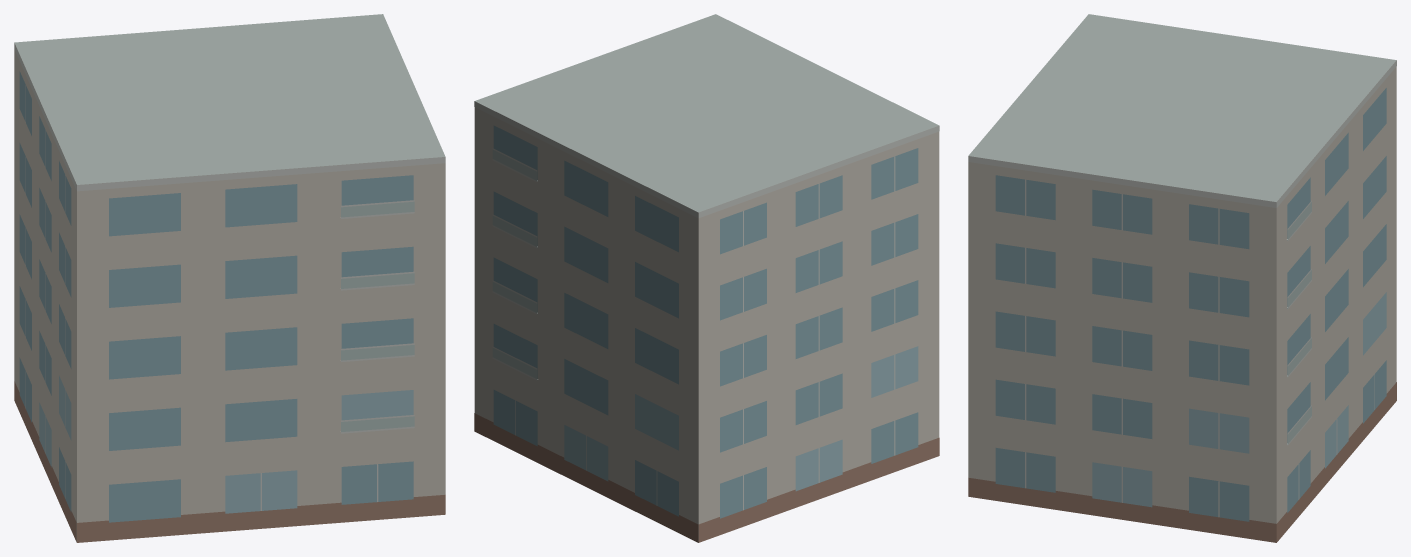
The model's file is survey-upis-32886792.glb.
3 views of the same model, side by side, from view 1: azimuth 30°, elevation 25°; view 2: azimuth 150°, elevation 25°; view 3: azimuth 270°, elevation 25° (orthographic). The views are drawn at different scales.
Visible parts, largest first — view 1: survey-upis-32886792.tmp; view 2: survey-upis-32886792.tmp; view 3: survey-upis-32886792.tmp.
Part boxes in pixels (left/top/right/bottom): survey-upis-32886792.tmp: left=14, top=14, right=445, bottom=542; survey-upis-32886792.tmp: left=474, top=14, right=939, bottom=542; survey-upis-32886792.tmp: left=968, top=14, right=1396, bottom=542.
Bounding box in the file's own units: 16.35 × 13.8 × 15.74.
